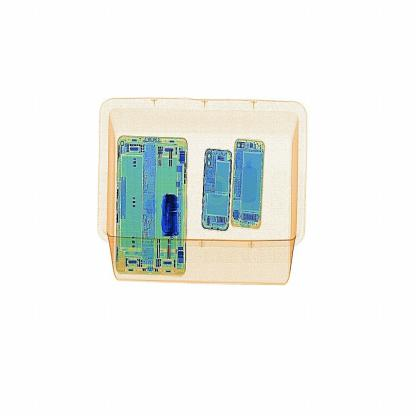scissors: (158, 182, 188, 238)
